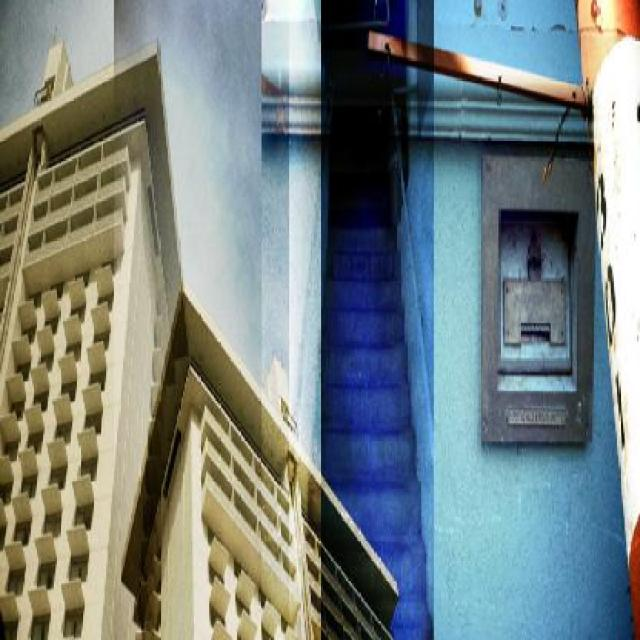stair: (322, 196, 436, 638)
